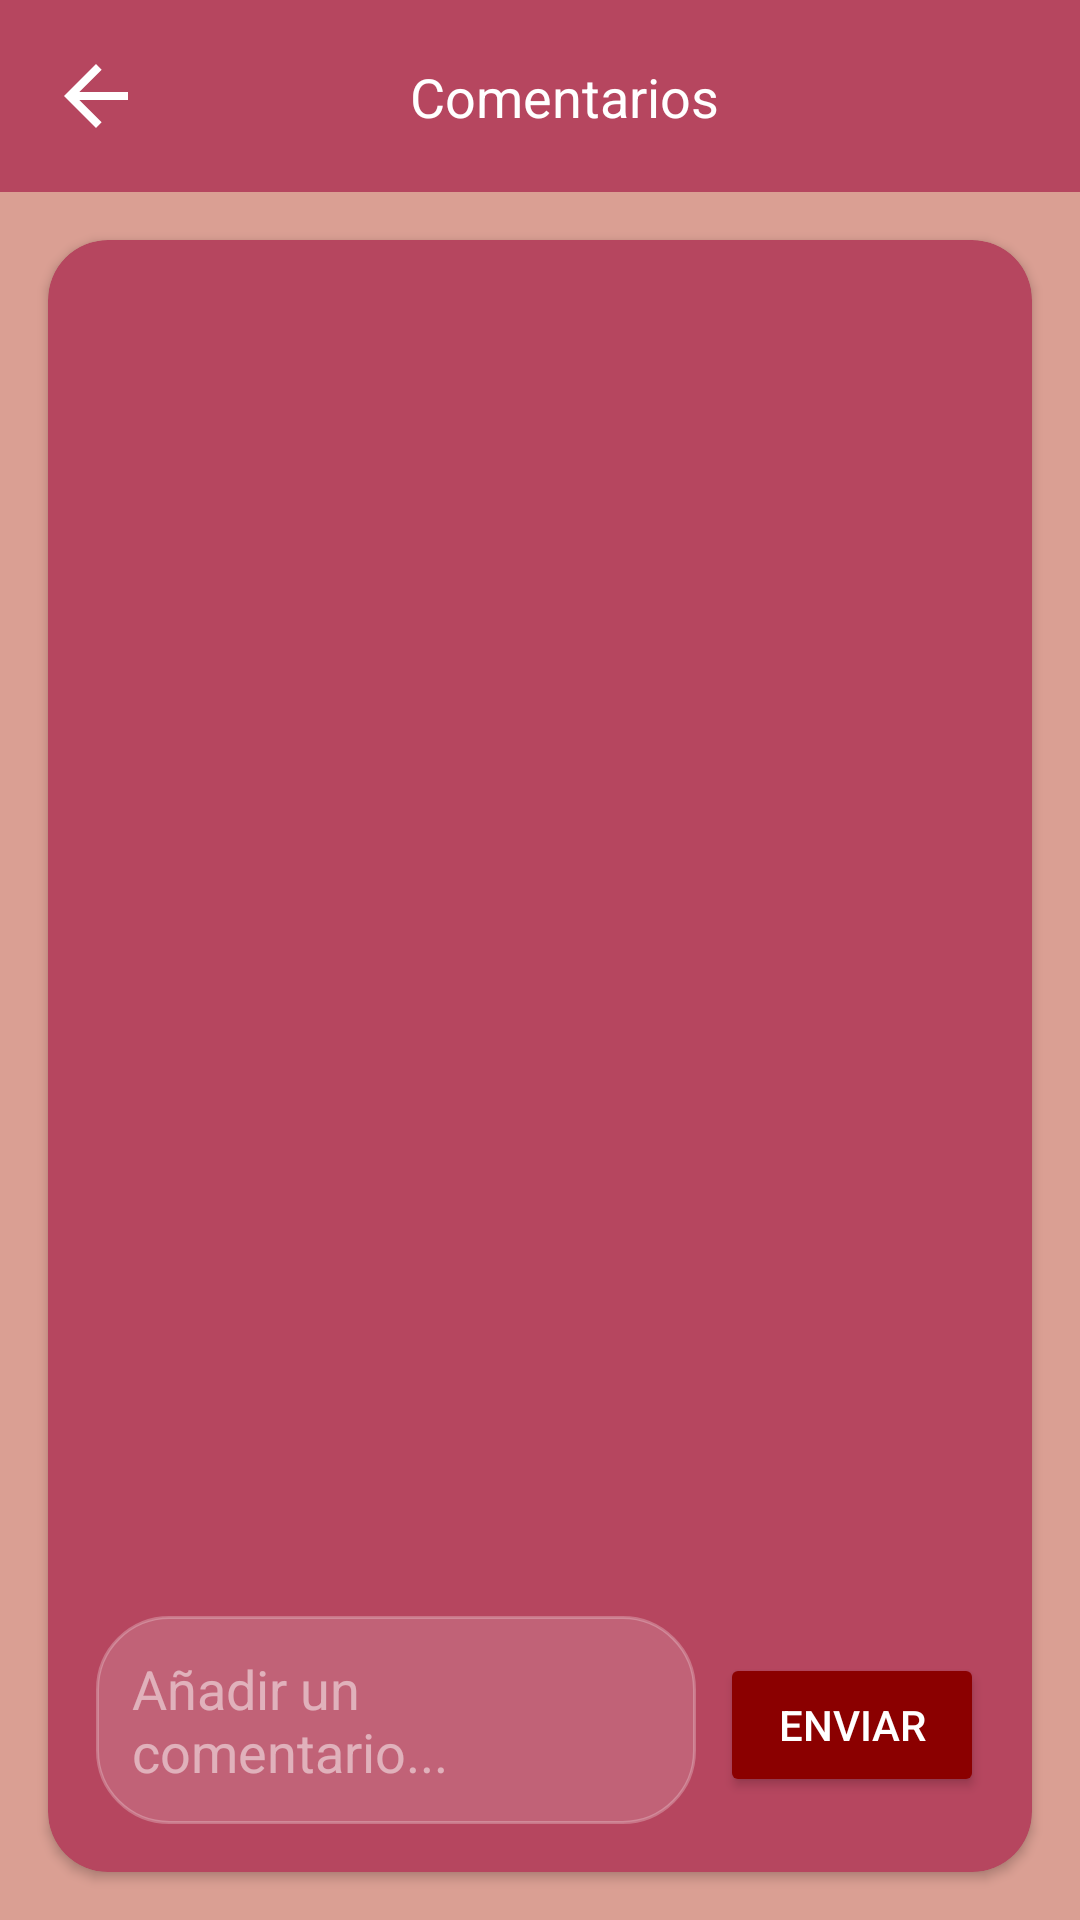

Where icons sit on this 1080 x 1920 app screen, as (x1, y1, x2, y2):
back: (64, 64, 128, 128)
